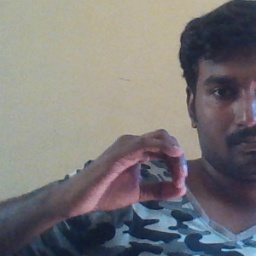O: (76, 128, 191, 215)
